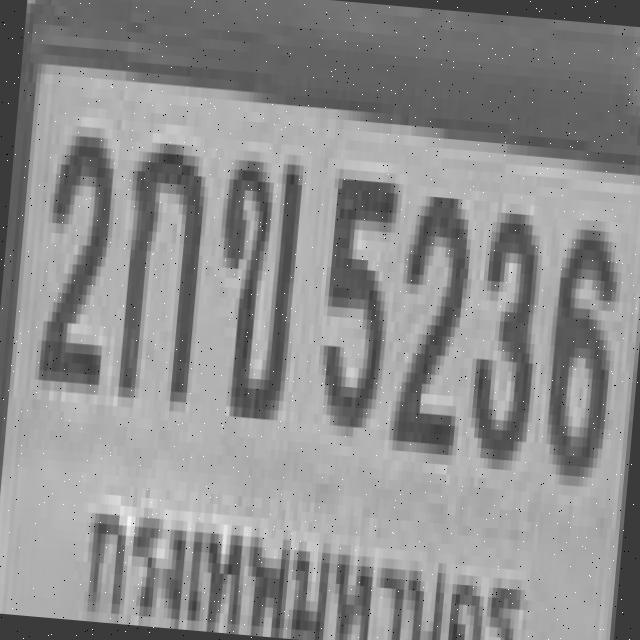10GorGai: (110, 130, 205, 392)
11KhorKhai: (206, 149, 300, 410)
2: (388, 184, 471, 444), (34, 124, 117, 384)
3: (463, 201, 542, 461)
5: (312, 168, 396, 428)
6: (540, 218, 618, 468)
Bangkok: (74, 486, 541, 640)
